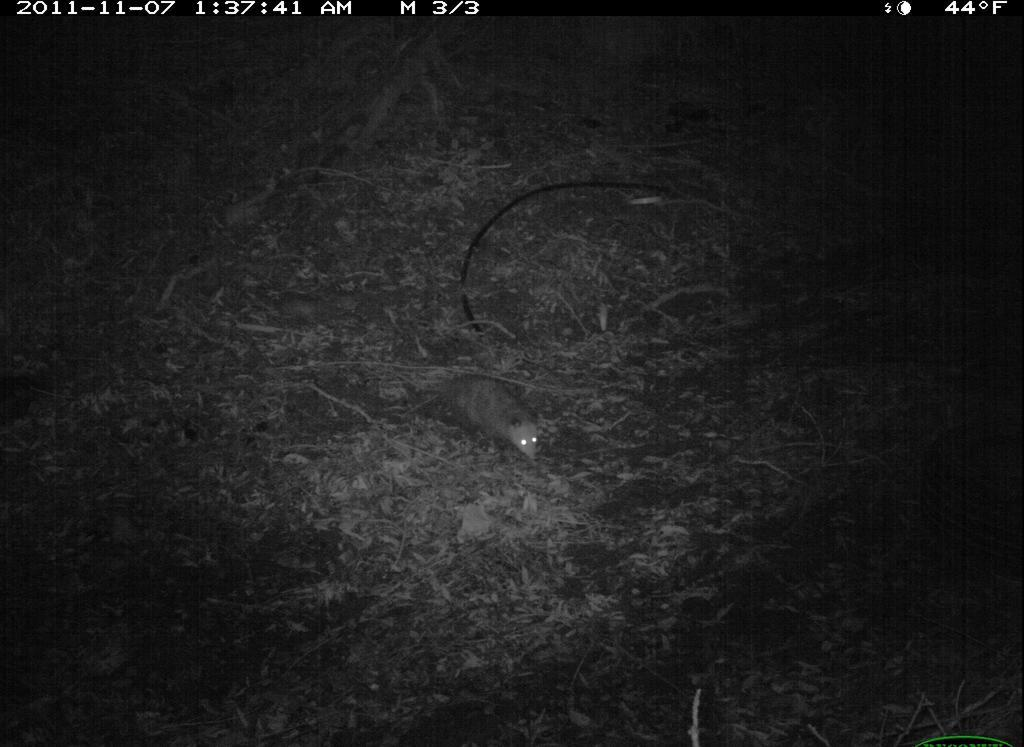opossum: (419, 364, 557, 477)
